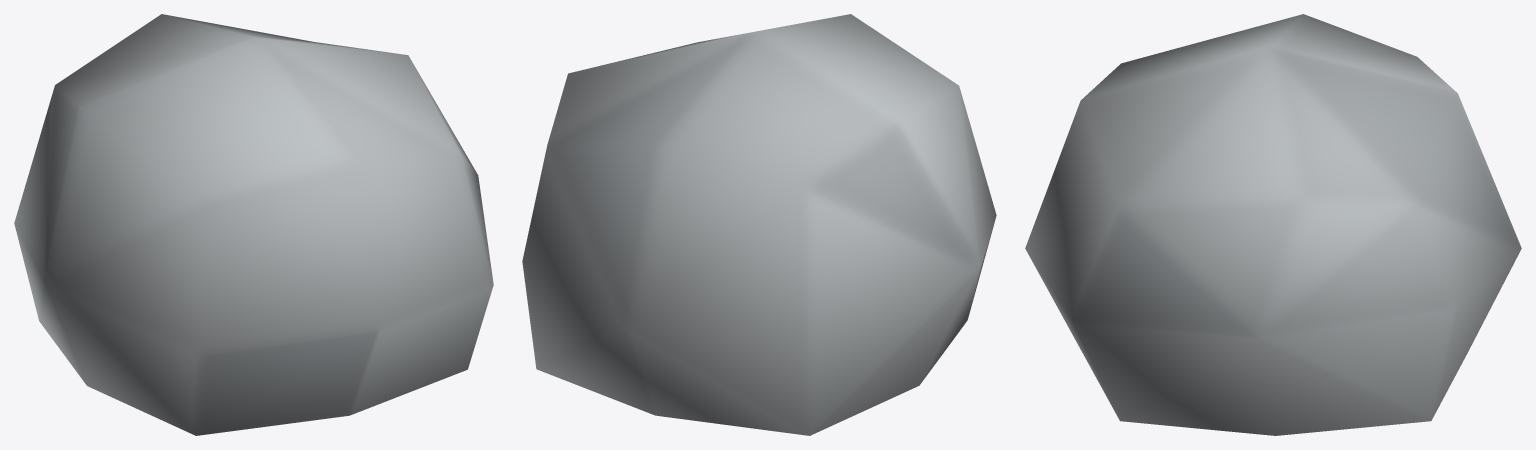
The model's file is Pedra_Redonda_4.fbx.
3 renders of one model, left to right at view 1: azimuth 30°, elevation 25°; view 2: azimuth 150°, elevation 25°; view 3: azimuth 270°, elevation 25°, orthographic.
Visible parts, largest first — view 1: Pedra_4; view 2: Pedra_4; view 3: Pedra_4.
Boxes of the visible parts, x1=… form: Pedra_4: x1=14, y1=14, x2=493, y2=435; Pedra_4: x1=522, y1=14, x2=996, y2=435; Pedra_4: x1=1025, y1=14, x2=1521, y2=435.
Size of the model in its own units: 215 by 146 by 215.
